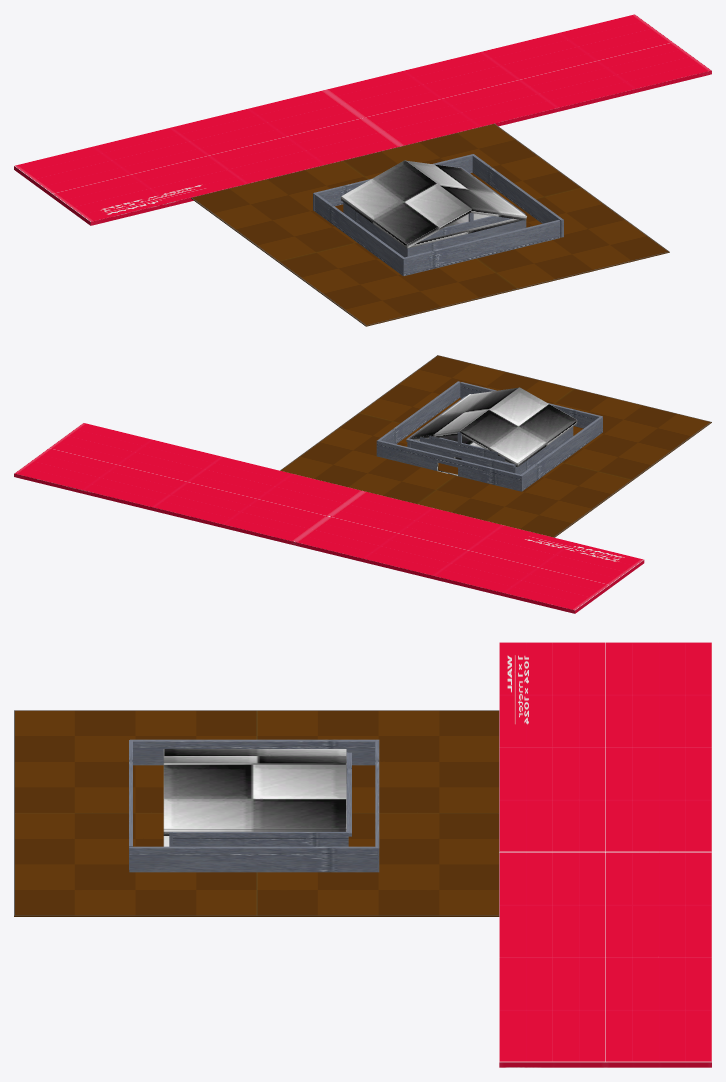
File: house.gltf
3 renders of one model, top to bottom at view 1: azimuth 30°, elevation 25°; view 2: azimuth 150°, elevation 25°; view 3: azimuth 270°, elevation 25°, orthographic. The views are drawn at different scales.
Parts seen in each view (by area): view 1: CSGCombiner3D2; view 2: CSGCombiner3D2; view 3: CSGCombiner3D2.
Boxes of the visible parts, left/top/right/bottom form: CSGCombiner3D2: left=14, top=14, right=711, bottom=326; CSGCombiner3D2: left=14, top=355, right=711, bottom=613; CSGCombiner3D2: left=14, top=642, right=711, bottom=1067.
Size of the model in its own units: 164 by 11.05 by 115.
6 materials, 5 textured.
